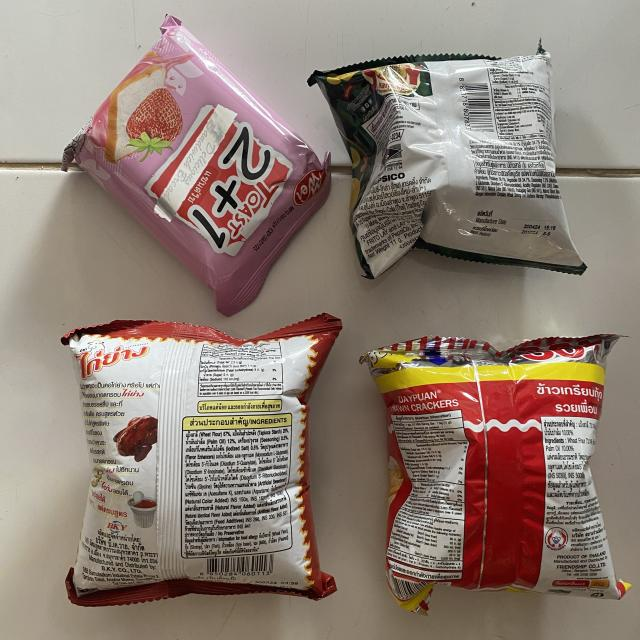plastik: (62, 314, 341, 606), (62, 16, 330, 315), (361, 335, 629, 611), (309, 49, 585, 278)
